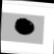correct: (11, 15, 39, 37)
